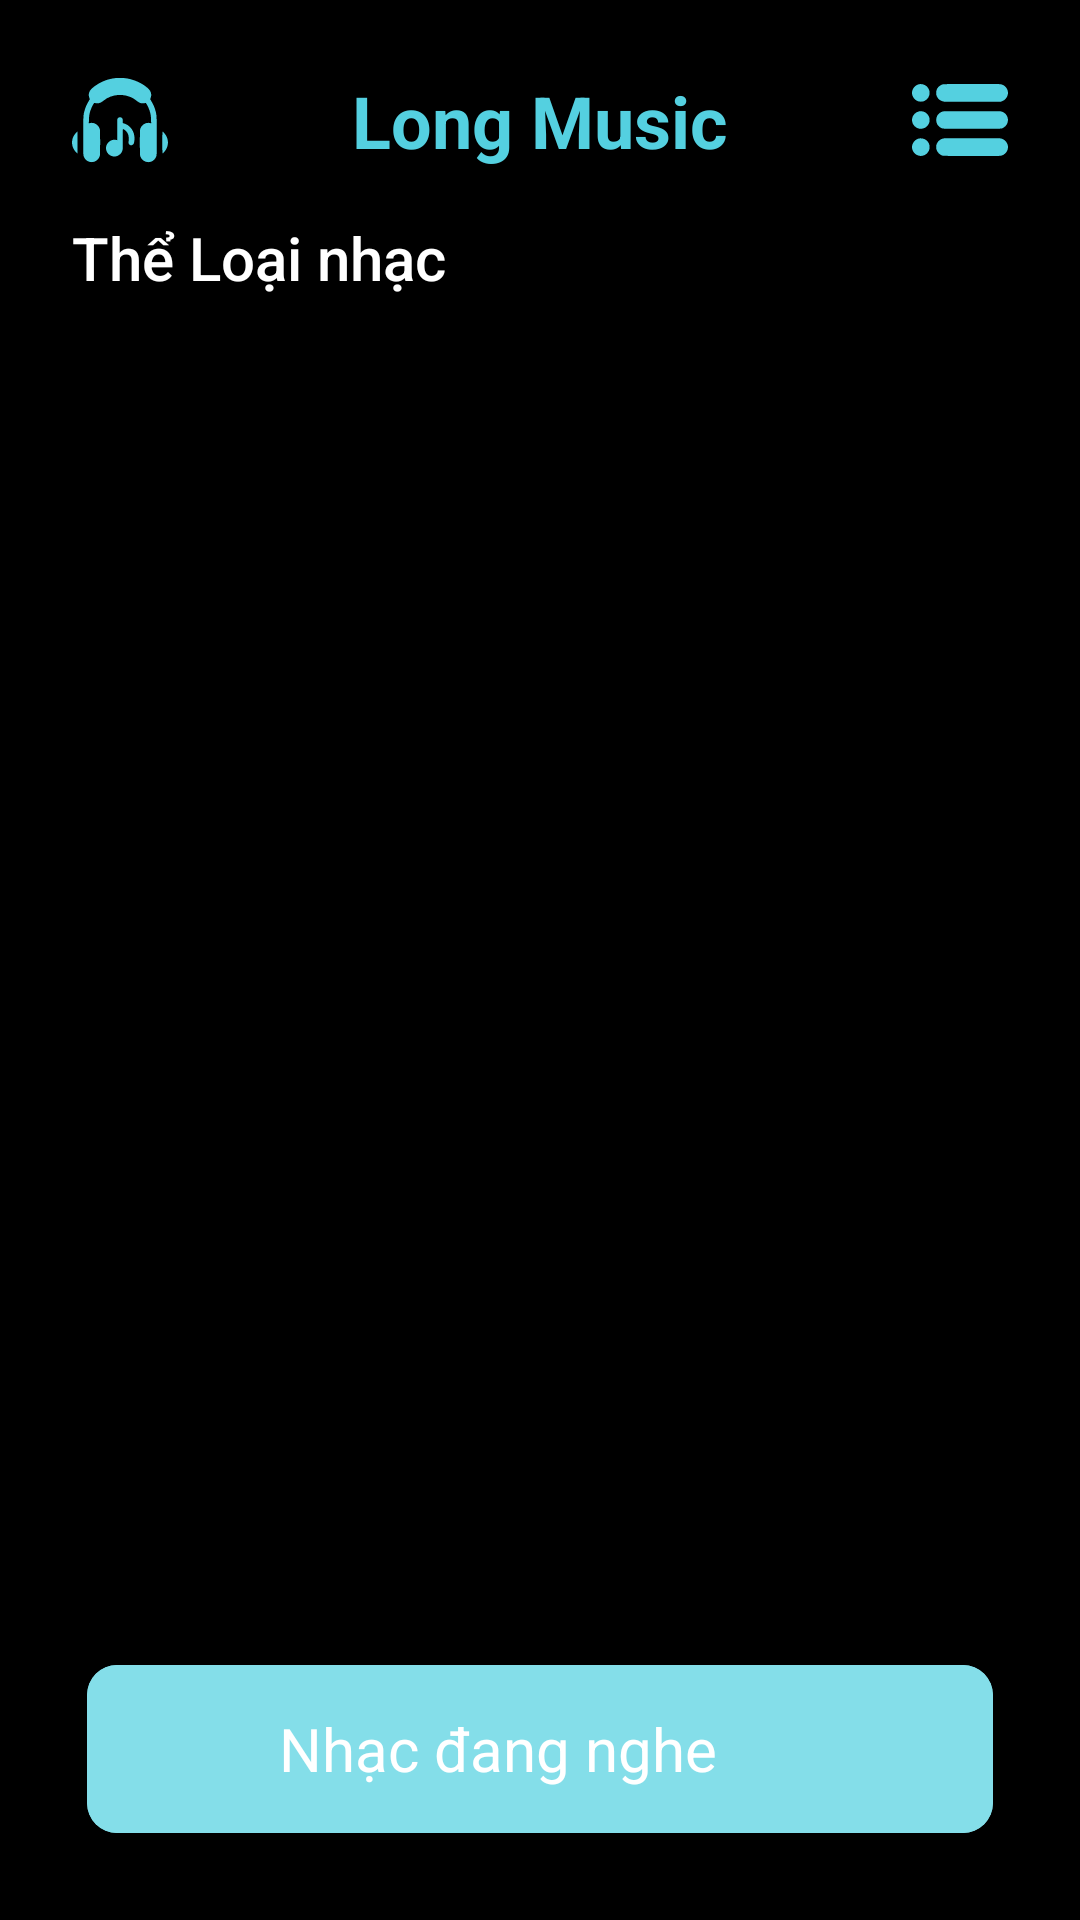

Screen size 1080 x 1920. Icon name, then its box in pixels as (x1=x1, y1=y1, x2=x2, y2=y2):
list: (x1=912, y1=84, x2=1008, y2=156)
